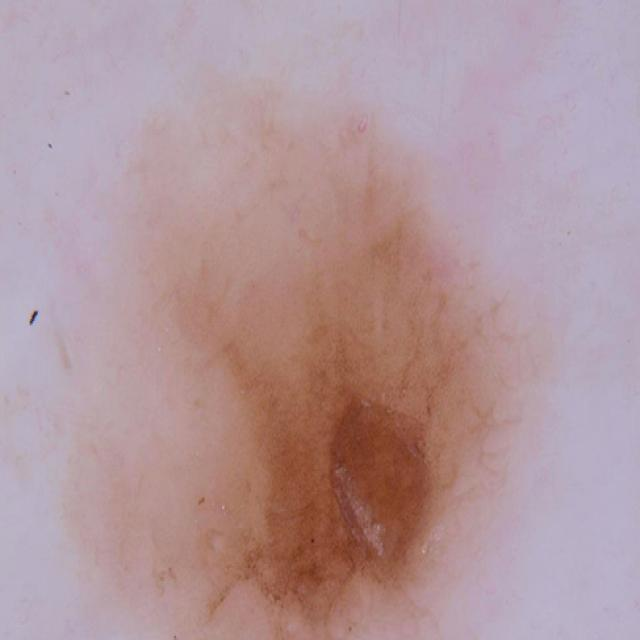Keratosis: (48, 100, 544, 640)
